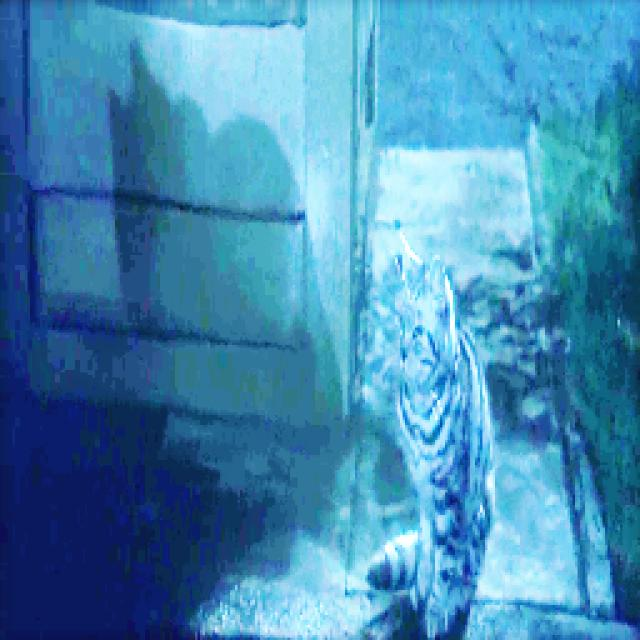cat: (363, 230, 495, 640)
